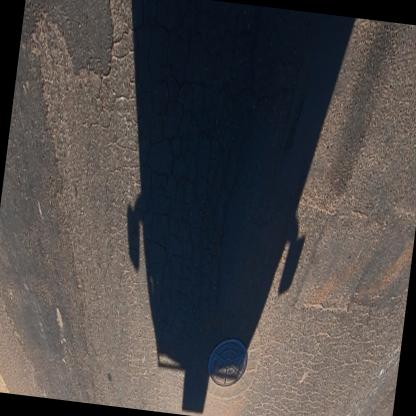manholes: (201, 328, 253, 394)
